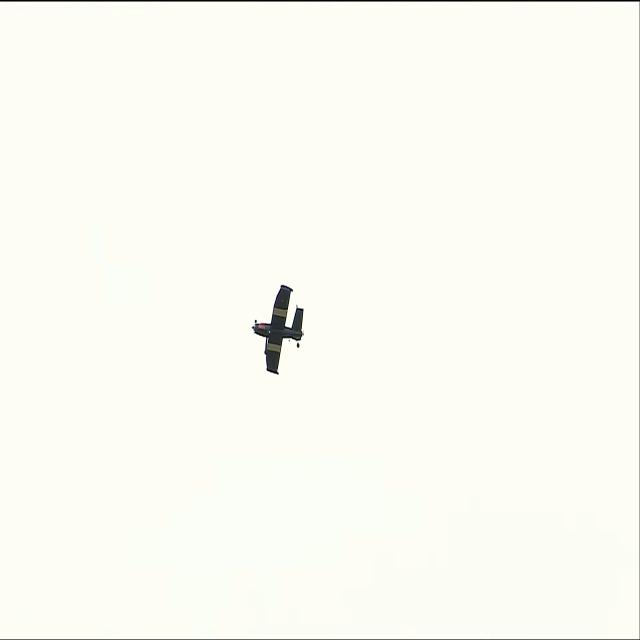iha: (251, 310, 305, 339)
